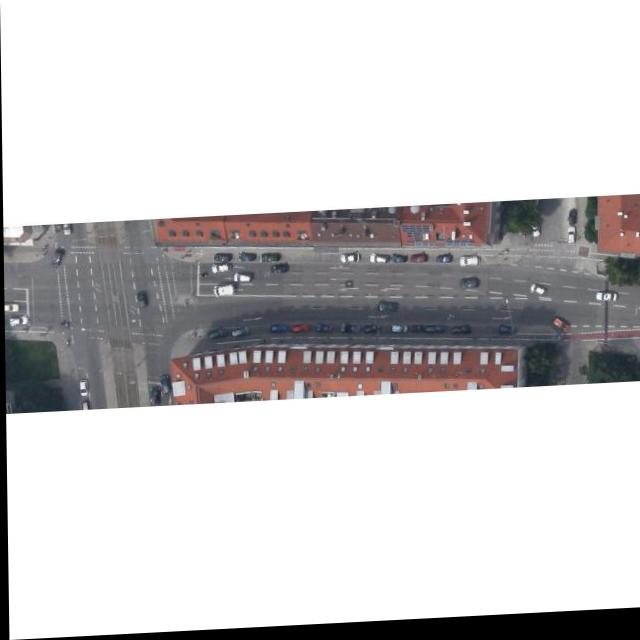vehicle: (212, 285, 235, 299), (48, 249, 64, 269), (551, 322, 570, 338), (458, 281, 479, 295), (458, 259, 479, 271), (595, 297, 617, 308), (378, 304, 398, 316), (339, 326, 359, 338), (135, 292, 148, 309), (450, 329, 470, 340), (149, 388, 161, 406), (159, 376, 170, 395), (529, 289, 546, 301), (9, 315, 27, 326), (207, 330, 225, 341), (316, 325, 332, 337), (211, 264, 230, 274), (270, 266, 289, 276), (369, 257, 388, 267), (530, 224, 540, 243), (259, 255, 279, 264), (340, 256, 358, 266), (498, 330, 514, 341), (435, 257, 452, 267), (410, 257, 427, 267), (390, 257, 407, 267), (232, 275, 250, 284), (231, 330, 249, 339), (237, 254, 253, 264), (292, 327, 308, 337), (363, 328, 379, 338), (567, 214, 577, 229), (213, 254, 231, 262), (270, 327, 286, 336), (424, 330, 444, 337), (391, 329, 407, 337), (79, 380, 86, 396), (567, 232, 573, 248), (410, 328, 422, 336)
